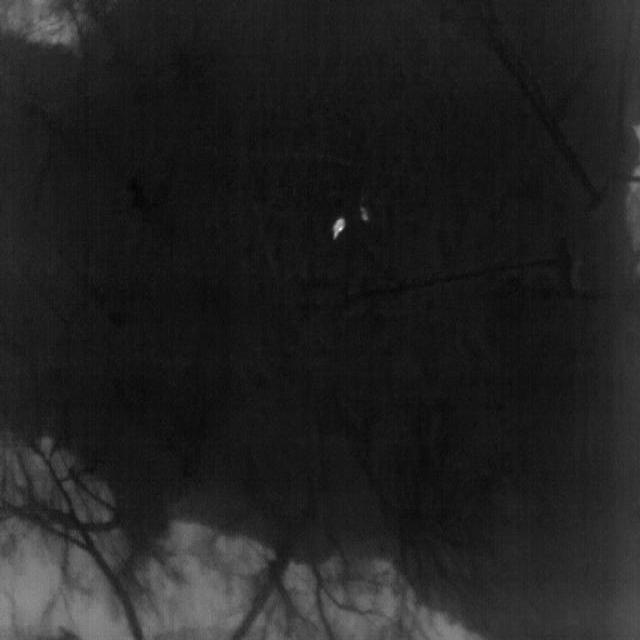deer: (332, 218, 345, 238), (360, 206, 370, 222)
